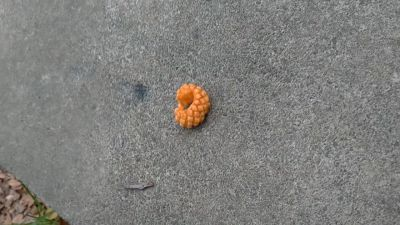eggs: (174, 82, 212, 129)
